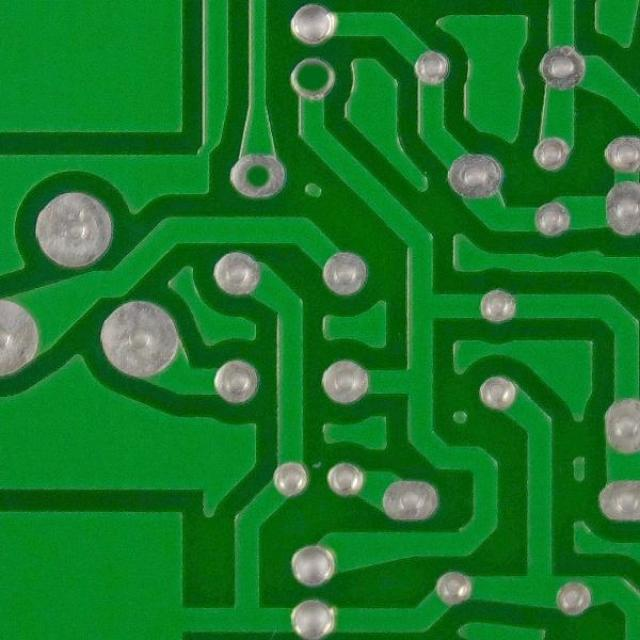Missing_Hole: (225, 150, 291, 202), (285, 56, 340, 102)
